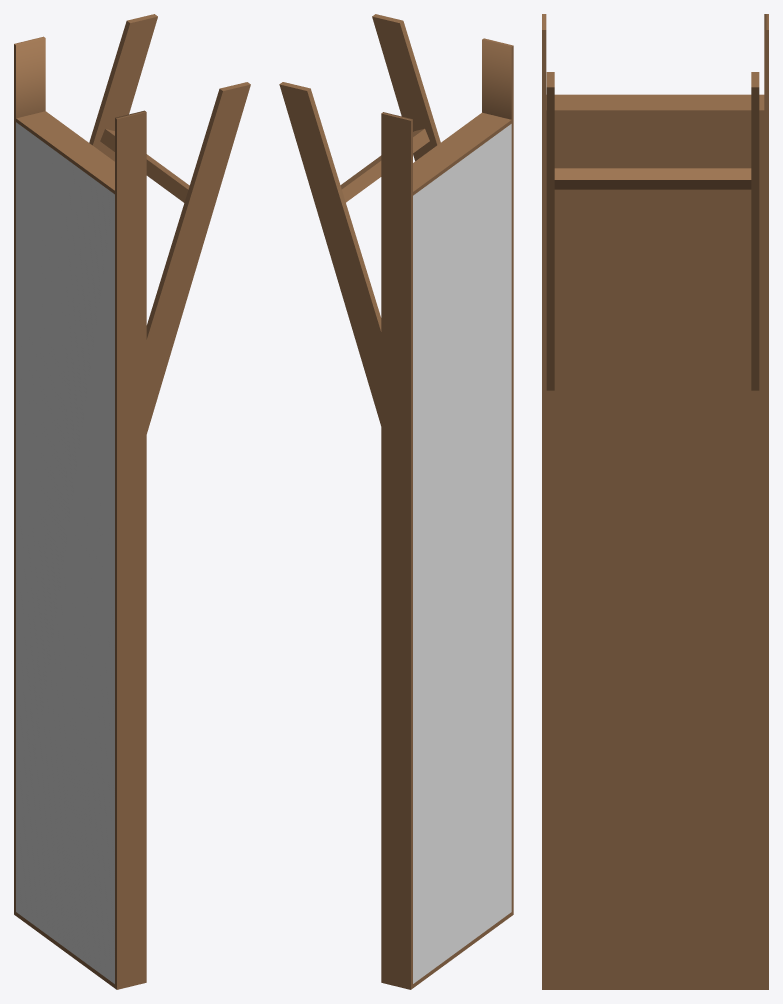
The model's file is MIRROR.fbx.
3 renders of one model, left to right at view 1: azimuth 30°, elevation 25°; view 2: azimuth 150°, elevation 25°; view 3: azimuth 270°, elevation 25°, orthographic. The views are drawn at different scales.
Parts seen in each view (by area): view 1: Box001, Box002, Box003; view 2: Box001, Box002, Box003; view 3: Box001, Box002, Box003.
Part boxes in pixels (left/top/right/bottom): Box001: left=14, top=36, right=146, bottom=989; Box002: left=89, top=14, right=250, bottom=433; Box003: left=100, top=129, right=189, bottom=202; Box001: left=381, top=38, right=513, bottom=989; Box002: left=279, top=14, right=440, bottom=425; Box003: left=340, top=128, right=429, bottom=202; Box001: left=542, top=14, right=768, bottom=989; Box002: left=546, top=72, right=759, bottom=390; Box003: left=554, top=168, right=751, bottom=189.
Size of the model in its own units: 229 by 1400 by 300.
